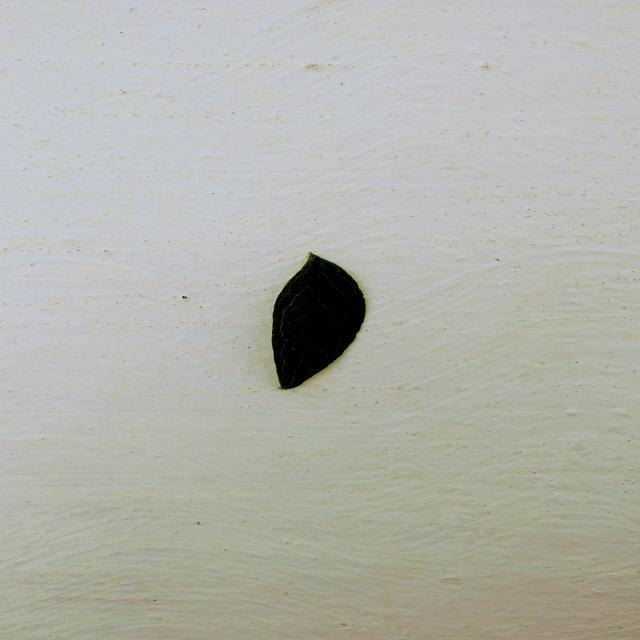leaf: (270, 251, 366, 389)
